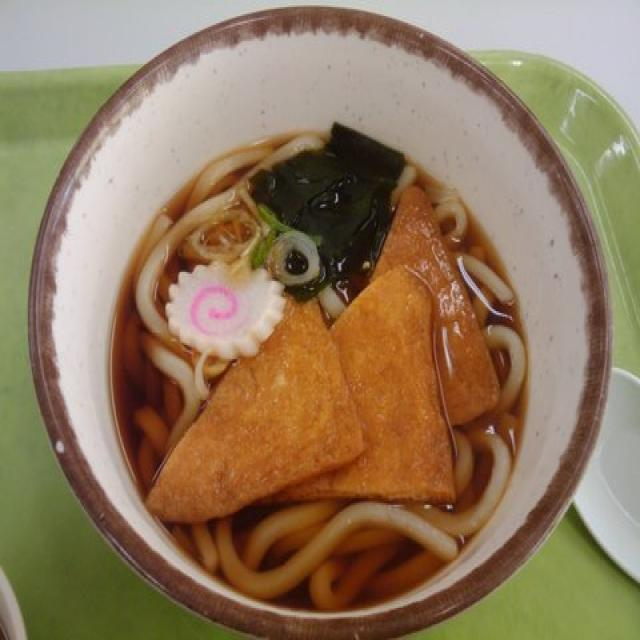面条主食: (25, 2, 612, 640)
